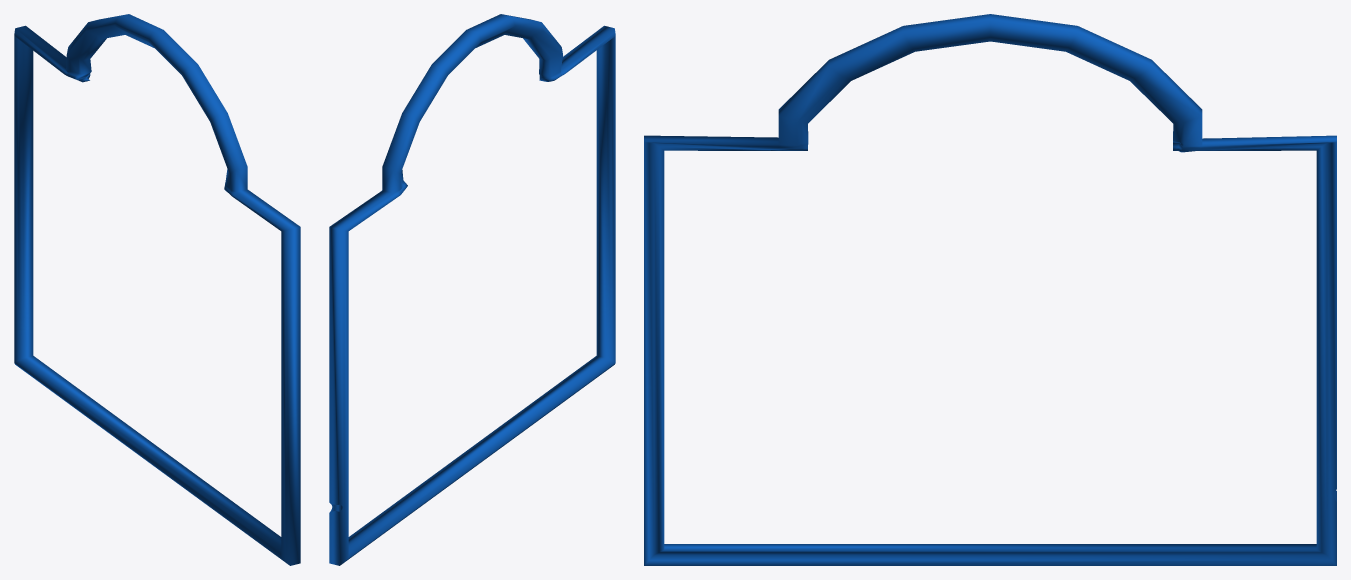
File: dormframew.obj
The picture shows the model from 3 angles, left to right: view 1: azimuth 30°, elevation 25°; view 2: azimuth 150°, elevation 25°; view 3: azimuth 270°, elevation 25°; orthographic projection. The views are drawn at different scales.
Visible parts, largest first — view 1: polySurface313; view 2: polySurface313; view 3: polySurface313.
Part boxes in pixels (box(x1,y1,x2,y2)): polySurface313: box(14, 14, 300, 565); polySurface313: box(329, 14, 615, 565); polySurface313: box(644, 14, 1336, 565).
Bounding box in the file's own units: 9.64 × 203 × 234.
1 material, 1 textured.
